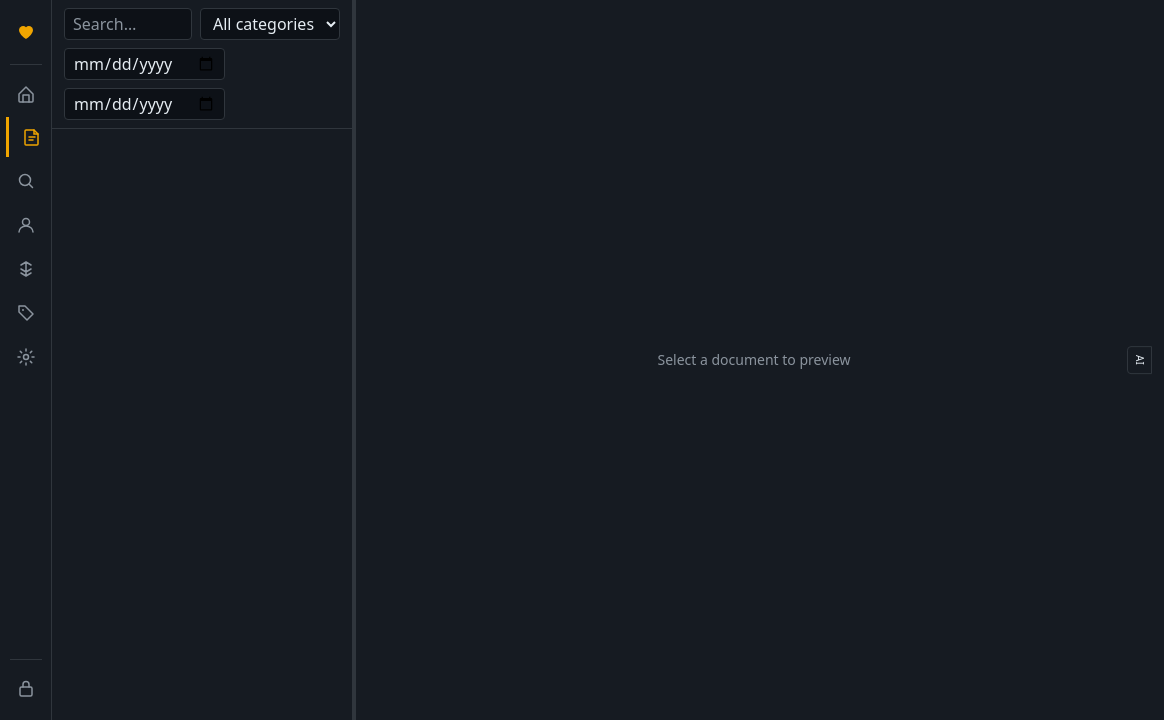
Test: VaultLayout › expand button restores AI panel
What coordinates should you click on to do the following:
click the button with test id "ai-panel-expand-btn"
I would click on:
 (1140, 360)
Its box is [1127,346,1152,374].
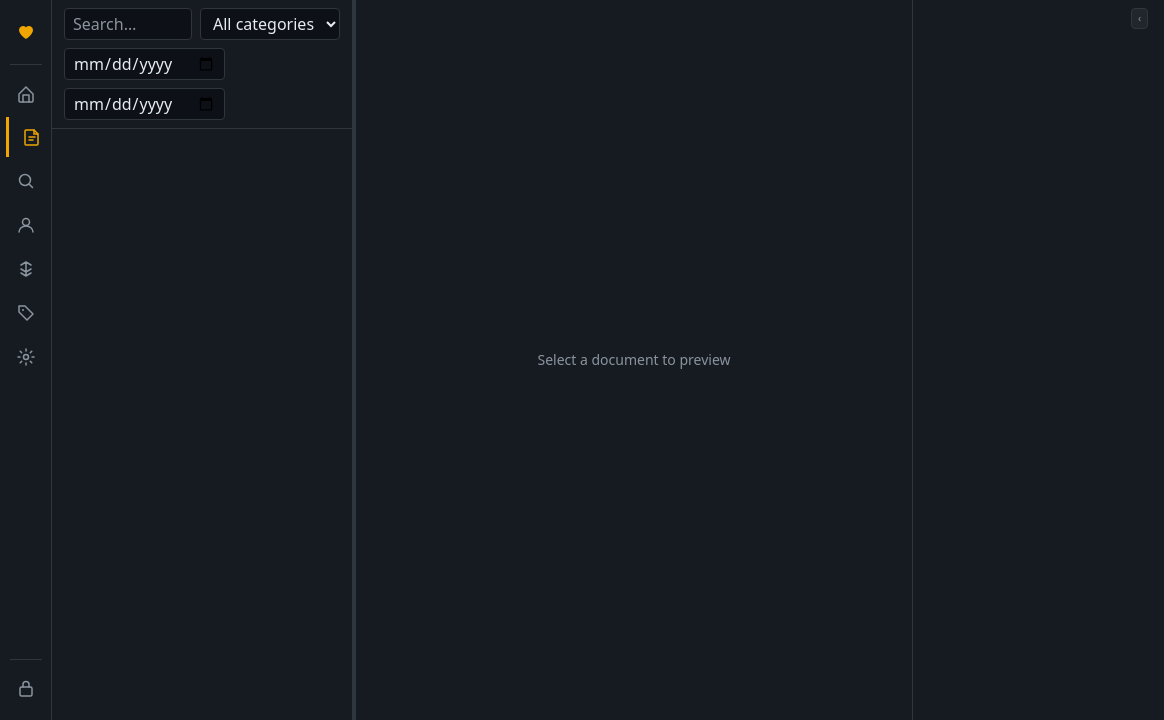
Check: the button with test id "ai-panel-expand-btn" is gone
